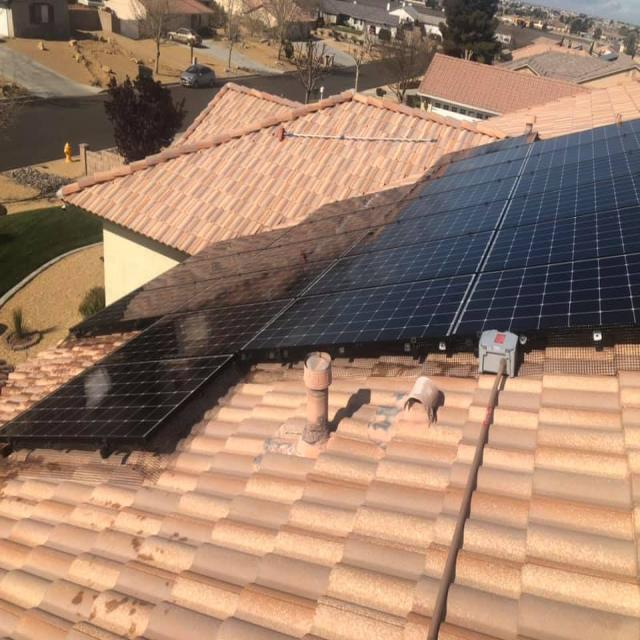clean-solar-panel: (0, 119, 640, 448)
